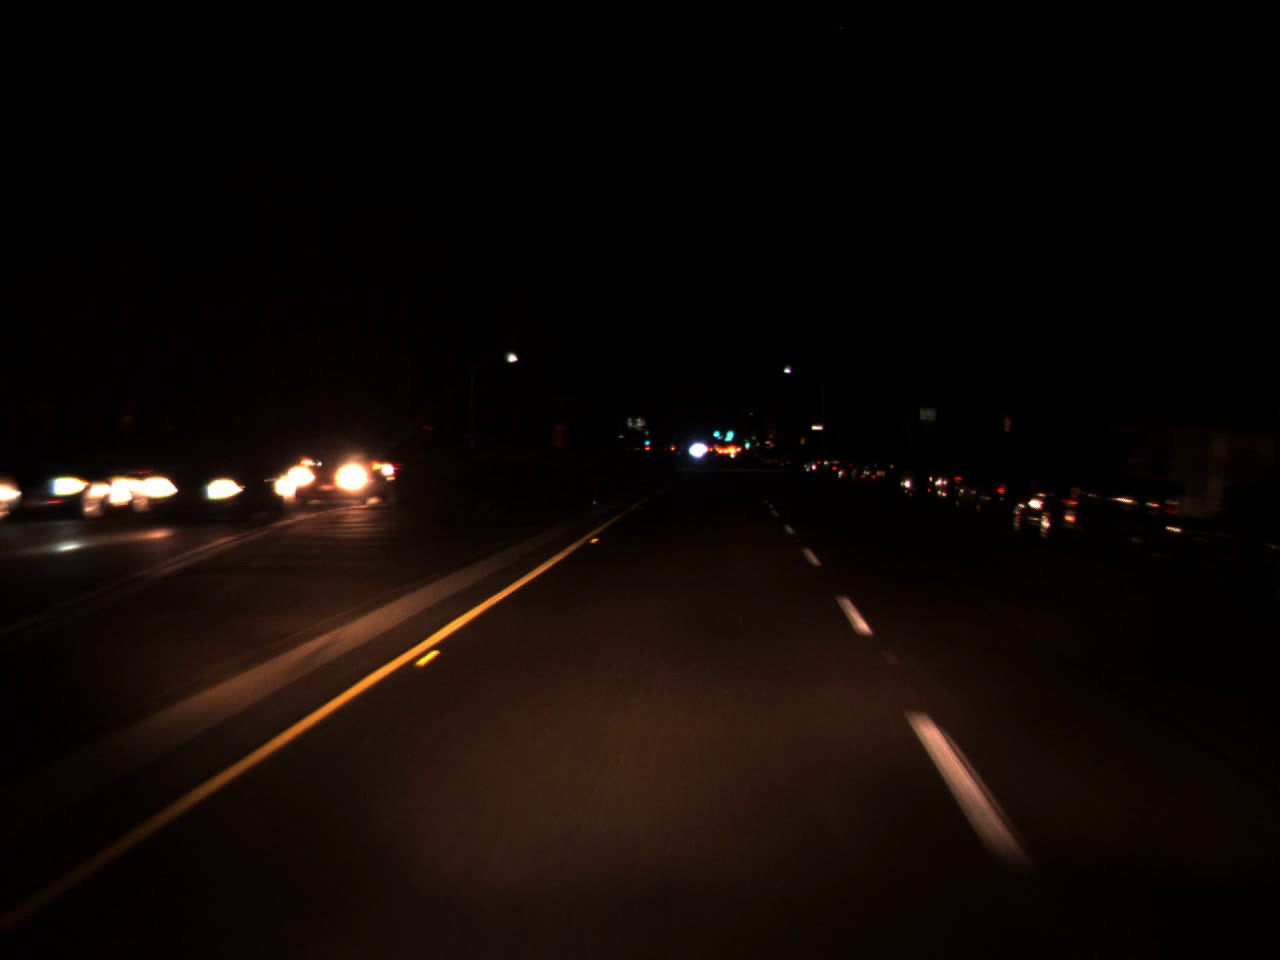go: (722, 419, 734, 440), (710, 419, 720, 440), (741, 432, 751, 450), (641, 432, 650, 447)
